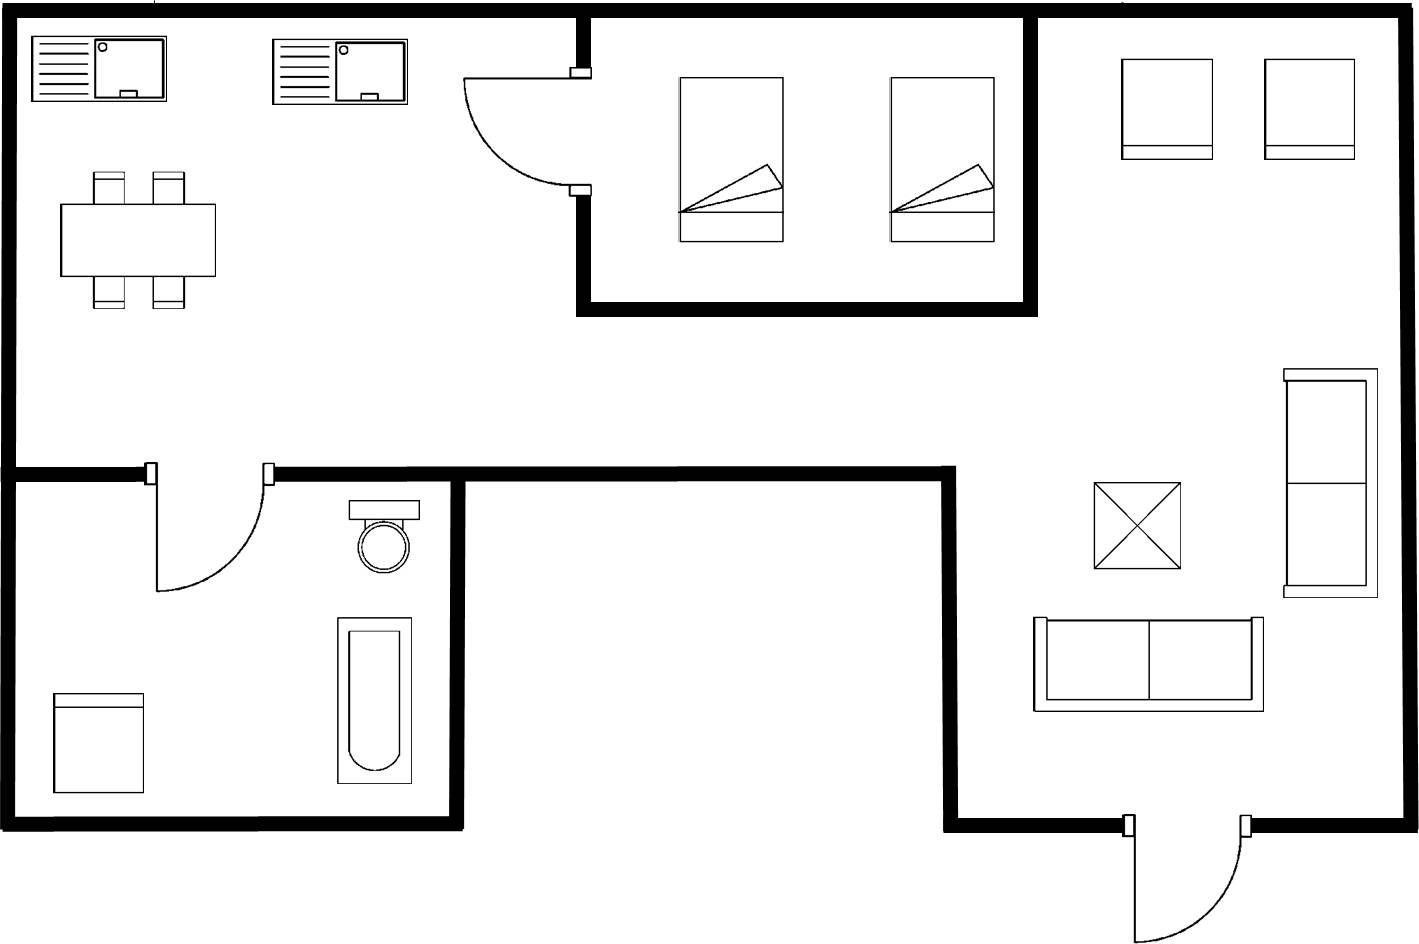bed: (673, 69, 790, 248), (886, 71, 998, 249)
coffee_table: (1089, 478, 1186, 576)
dining_table: (53, 164, 222, 316)
large_sink: (343, 495, 424, 579)
large_sofa: (1028, 612, 1268, 718), (1282, 364, 1383, 604)
sink: (28, 30, 174, 109), (268, 34, 412, 109)
small_sofa: (1258, 53, 1360, 165), (1116, 55, 1218, 164), (47, 688, 149, 799)
tub: (333, 611, 416, 789)
